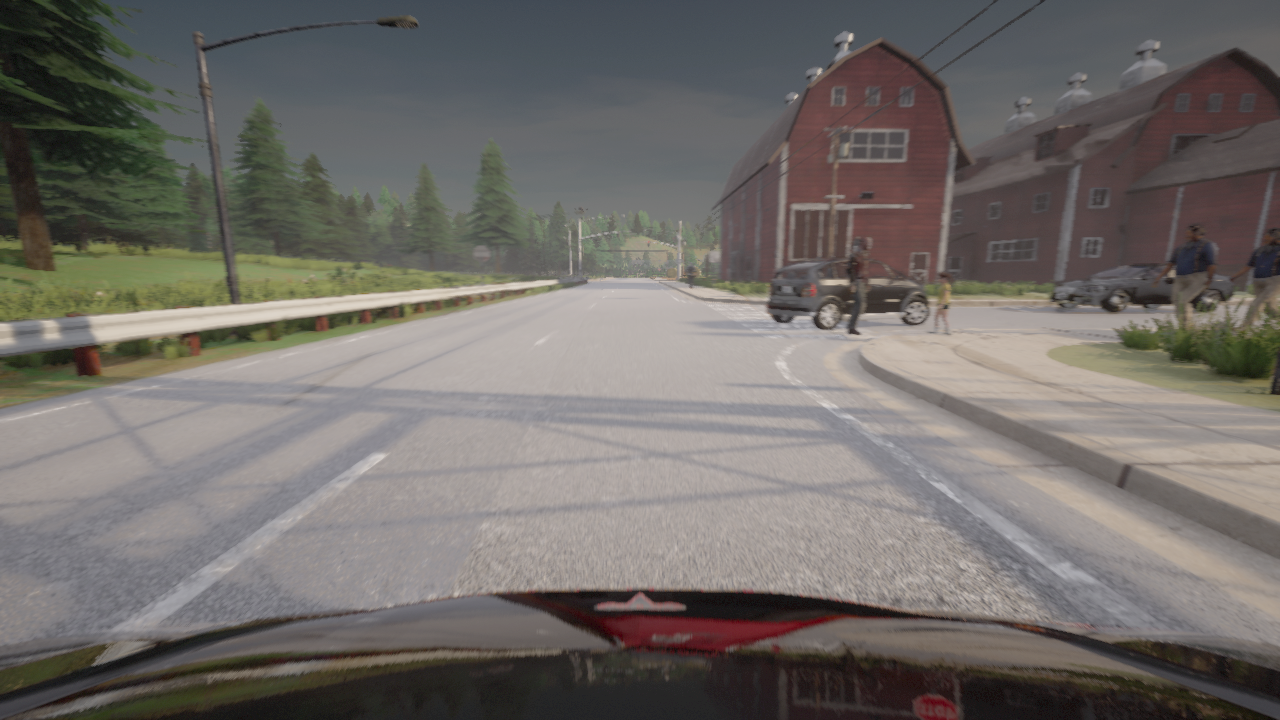cyclist: (0, 588, 1279, 719), (766, 258, 929, 330), (1048, 264, 1233, 312)
pedestrian: (1152, 224, 1218, 330), (1229, 228, 1279, 334), (846, 236, 870, 335), (926, 272, 952, 334), (684, 263, 694, 287)
